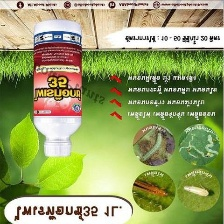insecticide: (27, 17, 84, 159)
